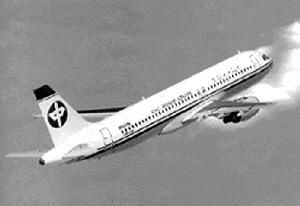airplane: (14, 49, 279, 170)
